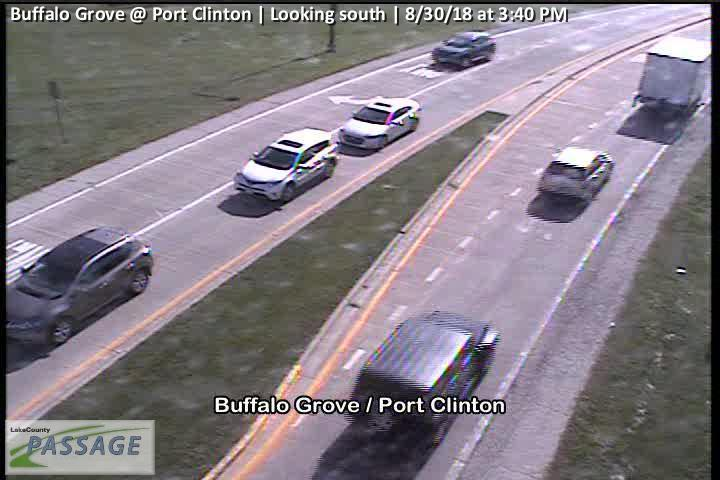SUV: (346, 310, 499, 448), (4, 225, 156, 348), (232, 128, 336, 203)
Sedan: (338, 97, 421, 150), (538, 147, 615, 201), (430, 30, 496, 68)
Truck: (633, 32, 710, 111)
